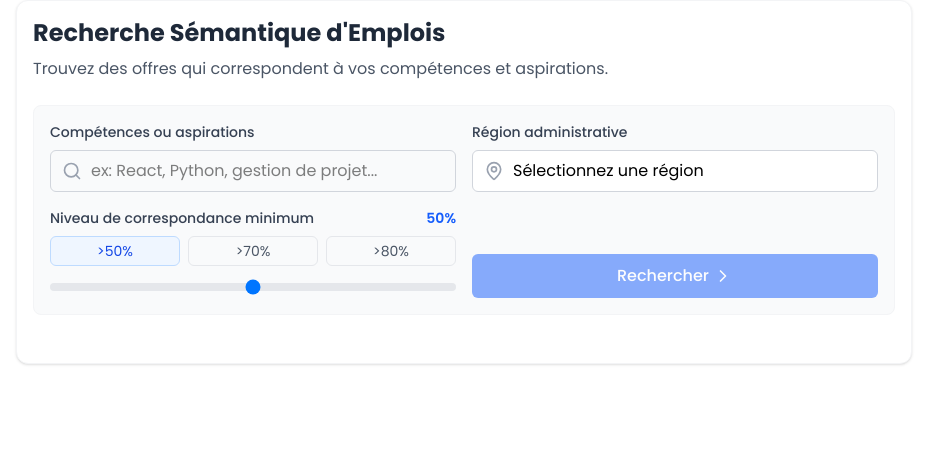
Test: JobSemanticMatcher › handles API error cleanly
Type "Error Test" into the field with placeholder "ex: React, Python, gestion de projet...". click: x=253, y=171
box: 50,150 -> 456,192
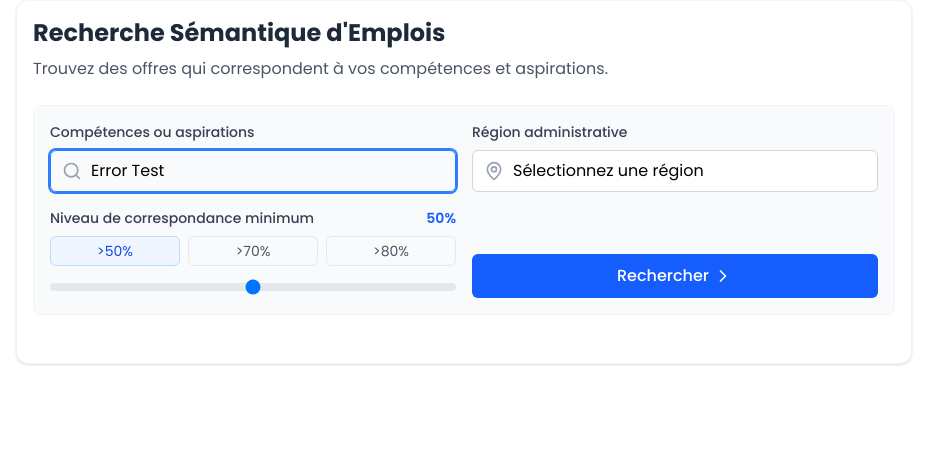
Click the button "Rechercher". click: x=675, y=276
box: 472,254 -> 878,298
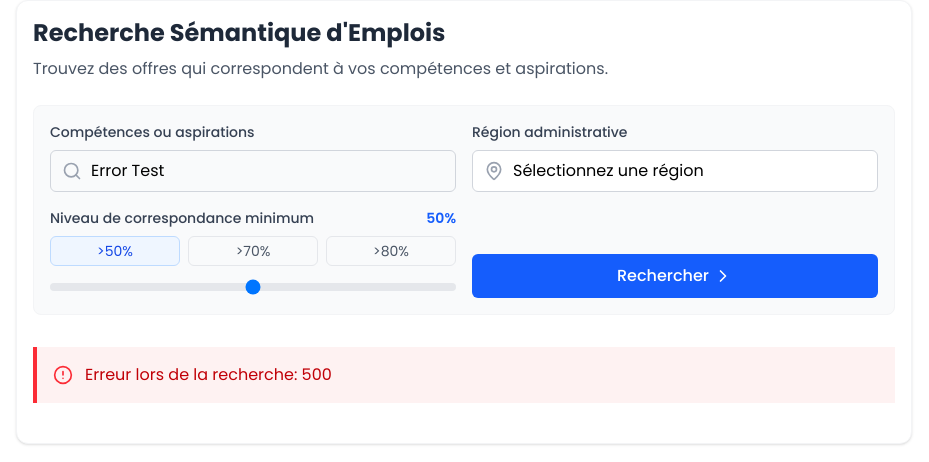
Now the text "Erreur lors de la recherche: 500" is shown, box 85,363 -> 332,387
